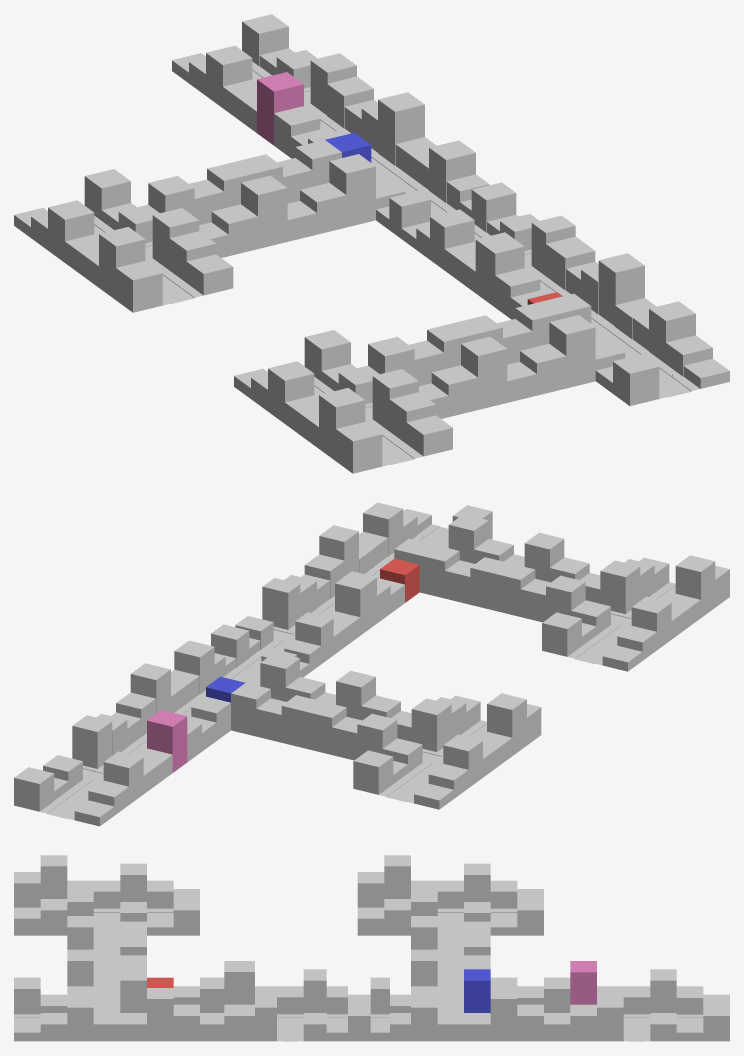
File: Street.fbx
The picture shows the model from 3 angles, top to bottom: view 1: azimuth 30°, elevation 25°; view 2: azimuth 150°, elevation 25°; view 3: azimuth 270°, elevation 25°; orthographic projection. The views are drawn at different scales.
Parts seen in each view (by area): view 1: Cube.082, Cube.088, Cube.020, Cube.014, Cube.060, Cube.006, Cube.046, Cube.074, Cube.100, Cube.032, Cube.101, Cube.033 (+57 smaller); view 2: Cube.046, Cube.105, Cube.079, Cube.037, Cube.074, Cube.032, Cube.100, Cube.051, Cube.076, Cube.102, Cube.034, Cube.015 (+57 smaller); view 3: Cube.060, Cube.006, Cube.046, Cube.003, Cube.057, Cube.079, Cube.032, Cube.011, Cube.065, Cube.071, Cube.074, Cube.100 (+82 smaller).
Part boxes in pixels (x1,y1,x2,y2): Cube.082: (329,154,375,227); Cube.088: (241,175,287,248); Cube.020: (461,336,507,409); Cube.014: (549,315,595,388); Cube.060: (378,92,424,165); Cube.006: (598,253,644,325); Cube.046: (475,232,524,307); Cube.074: (257,72,303,145); Cube.100: (99,227,145,299); Cube.032: (319,388,365,460); Cube.101: (116,261,162,312); Cube.033: (336,422,382,473); Cube.046: (335,571,376,635); Cube.105: (411,698,451,751); Cube.079: (72,715,112,768); Cube.037: (600,560,640,613); Cube.074: (147,710,187,772); Cube.032: (675,555,715,617); Cube.100: (487,693,526,755); Cube.051: (262,578,300,629); Cube.076: (14,767,54,811); Cube.102: (353,750,393,794); Cube.034: (542,612,581,656); Cube.015: (419,544,459,598); Cube.060: (490,987,517,1041); Cube.006: (147,988,173,1041); Cube.046: (224,961,254,1004); Cube.003: (67,996,93,1041); Cube.057: (411,996,437,1041); Cube.079: (597,996,623,1041); Cube.032: (40,855,67,898); Cube.011: (120,969,146,1012); Cube.065: (464,969,490,1012); Cube.071: (650,969,676,1012); Cube.074: (570,961,596,1004); Cube.100: (384,855,410,898).
Size of the model in its own units: 12800 by 1770 by 26930.
